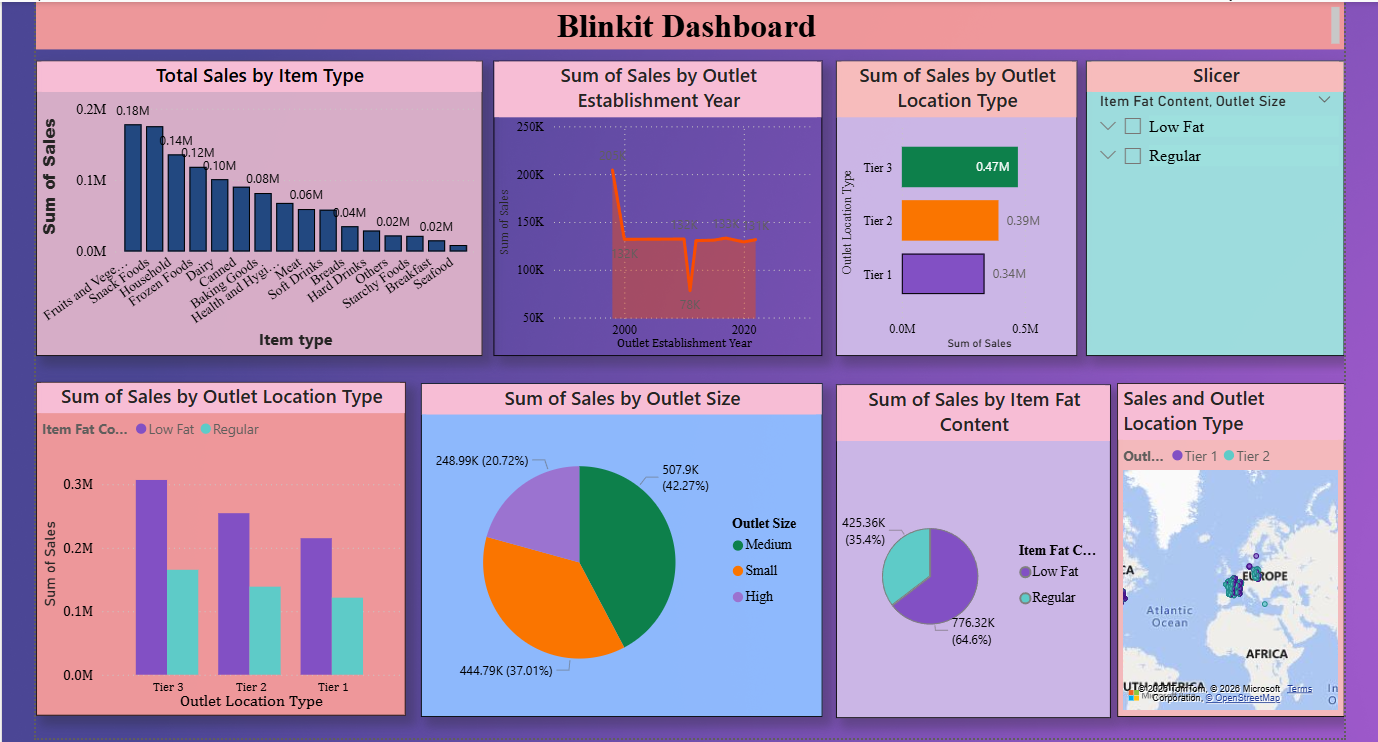

The page's visual inventory and layout, read from the dashboard file:
{"tool":"powerbi","page":{"name":"Page 1","canvas":[1280,720],"ordinal":0},"visuals":[{"type":"columnChart","title":"Total Sales by Item Type","fields":{"Category":["blinkit_data.Item Type"],"Y":["Sum(blinkit_data.Sales)"]},"box":[0,0,436.6,346.1],"z":0},{"type":"clusteredColumnChart","title":"Sum of Sales by Outlet Location Type","fields":{"Y":["Sum(blinkit_data.Sales)"],"Category":["blinkit_data.Outlet Location Type"],"Series":["blinkit_data.Item Fat Content"]},"box":[0,371.7,436.6,326.5],"z":1000},{"type":"lineChart","fields":{"Y":["Sum(blinkit_data.Sales)"],"Category":["blinkit_data.Outlet Establishment Year"]},"box":[447.6,1.2,469.6,346.1],"z":2000},{"type":"pieChart","fields":{"Category":["blinkit_data.Outlet Size"],"Y":["Sum(blinkit_data.Sales)"]},"box":[447.6,373,469.6,326.5],"z":3000},{"type":"clusteredBarChart","fields":{"Y":["Sum(blinkit_data.Sales)"],"Category":["blinkit_data.Outlet Location Type"]},"box":[926.9,1.2,353.4,344.8],"z":4000},{"type":"pieChart","fields":{"Category":["blinkit_data.Item Fat Content"],"Y":["Sum(blinkit_data.Sales)"]},"box":[927,373,353,326],"z":5000}]}

Visuals, with their boxes in screenshot pixels (x1, y1, x2, y2):
"Total Sales by Item Type" columnChart: bbox(32, 0, 477, 352)
"Sum of Sales by Outlet Location Type" clusteredColumnChart: bbox(32, 378, 477, 710)
lineChart - Sum(blinkit_data.Sales) x blinkit_data.Outlet Establishment Year: bbox(488, 1, 965, 353)
pieChart - blinkit_data.Outlet Size x Sum(blinkit_data.Sales): bbox(488, 380, 965, 712)
clusteredBarChart - Sum(blinkit_data.Sales) x blinkit_data.Outlet Location Type: bbox(975, 1, 1335, 352)
pieChart - blinkit_data.Item Fat Content x Sum(blinkit_data.Sales): bbox(975, 380, 1335, 711)
